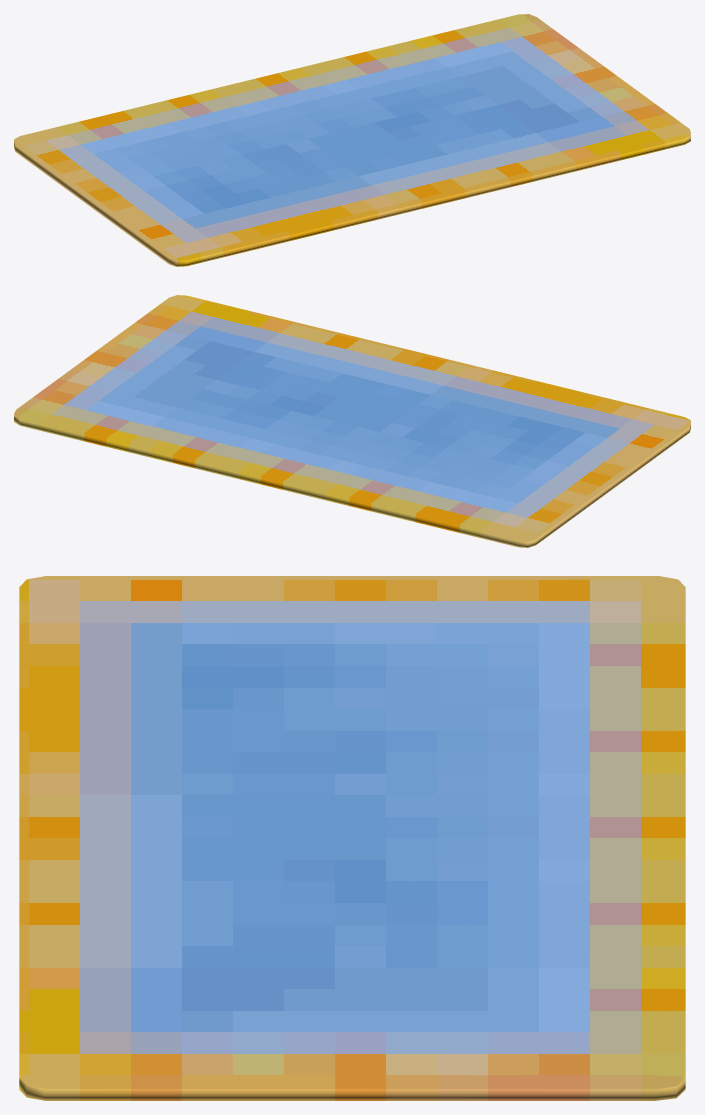
File: a_com_house_a01_mat01_square_plaid.gltf
3 renders of one model, top to bottom at view 1: azimuth 30°, elevation 25°; view 2: azimuth 150°, elevation 25°; view 3: azimuth 270°, elevation 25°, orthographic. The views are drawn at different scales.
Visible parts, largest first — view 1: um_a_com_house_a01_mat01_model_a_com_house_a01_mat01_modelSh (×5); view 2: um_a_com_house_a01_mat01_model_a_com_house_a01_mat01_modelSh (×5); view 3: um_a_com_house_a01_mat01_model_a_com_house_a01_mat01_modelSh (×5).
Part boxes in pixels (left/top/right/bottom): um_a_com_house_a01_mat01_model_a_com_house_a01_mat01_modelSh (×5): left=14, top=14, right=690, bottom=266; um_a_com_house_a01_mat01_model_a_com_house_a01_mat01_modelSh (×5): left=14, top=295, right=690, bottom=547; um_a_com_house_a01_mat01_model_a_com_house_a01_mat01_modelSh (×5): left=19, top=576, right=685, bottom=1100.
Size of the model in its own units: 2.05 by 0.0314 by 1.13.
Materials: 5 (5 with a texture image).
